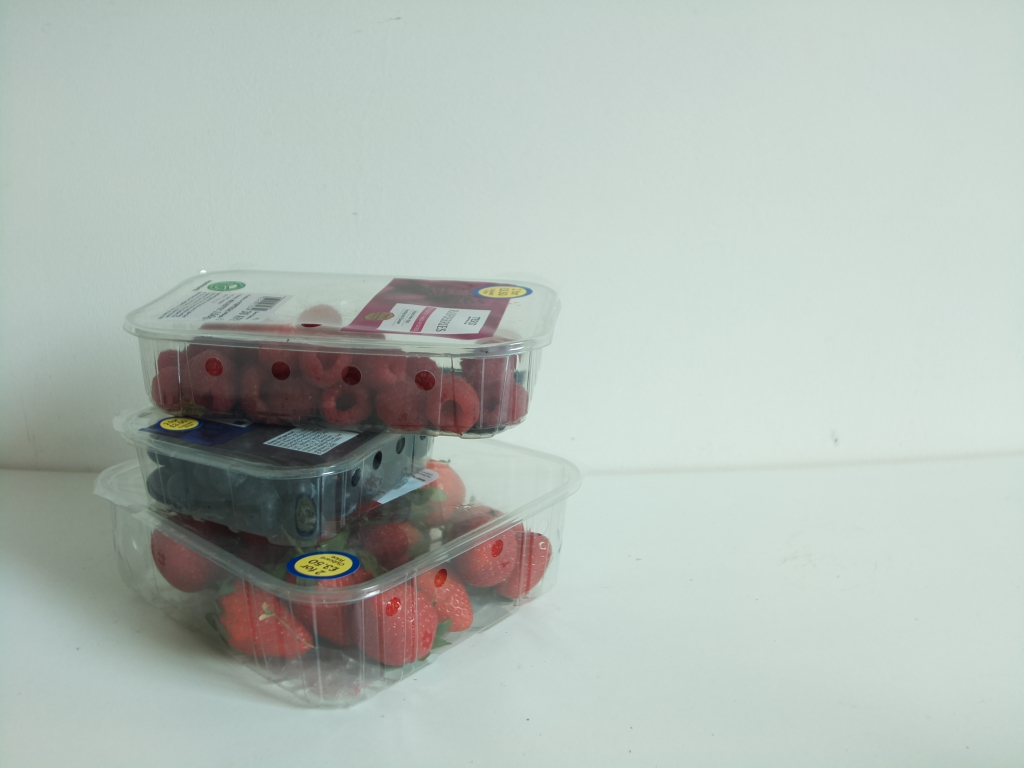soft-fruit: (91, 421, 584, 719), (126, 270, 563, 438), (105, 394, 461, 538)
